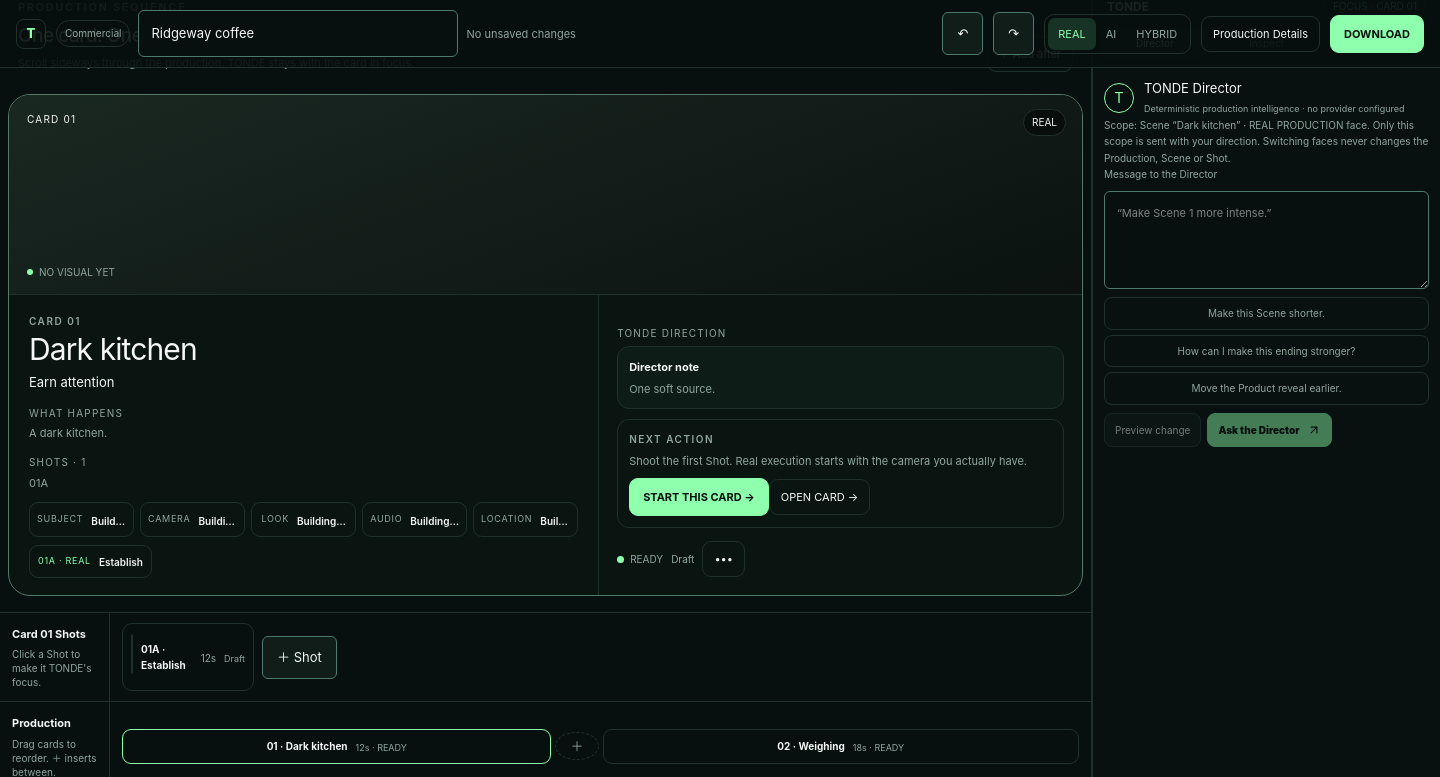
Scenario: Card-first Studio shell › only exposes the focused Card in the stage, then moves focus from the Production timeline
(page scrolled)
Check: the element named "Card 1: Dark kitchen" is shown, box [8,94,1083,596]
Step 1. Click the button with aria-label "Card 2: Weighing" → {"x": 841, "y": 746}, box [602,728,1079,764]
(page scrolled)
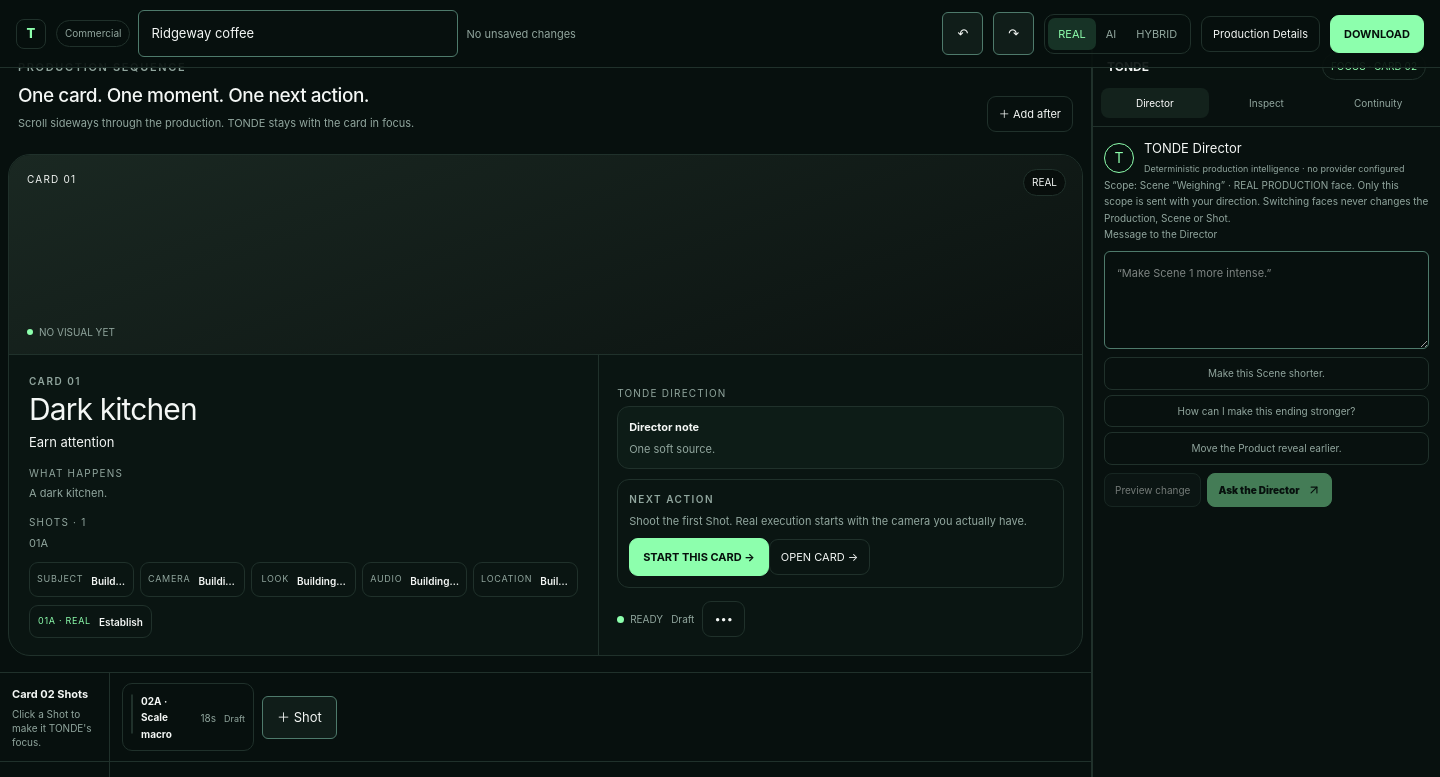
Check: the text "FOCUS · CARD 02" is shown, box [1322,53,1426,80]
Check: the option "02A · Scale macro 18s Draft" is shown, box [122,683,254,751]
